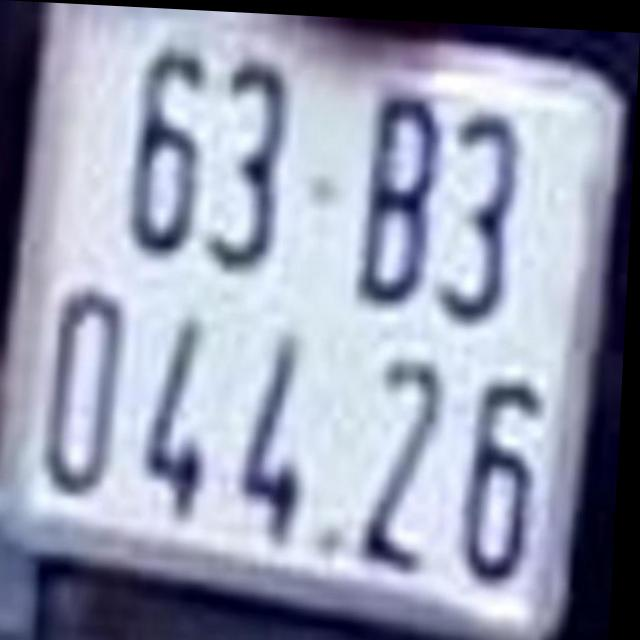0: (47, 282, 125, 492)
2: (378, 347, 445, 571)
3: (445, 99, 518, 322), (217, 53, 286, 270)
4: (243, 327, 318, 547), (146, 307, 217, 516)
6: (129, 41, 209, 257), (478, 357, 545, 583)
B: (368, 91, 434, 294)
